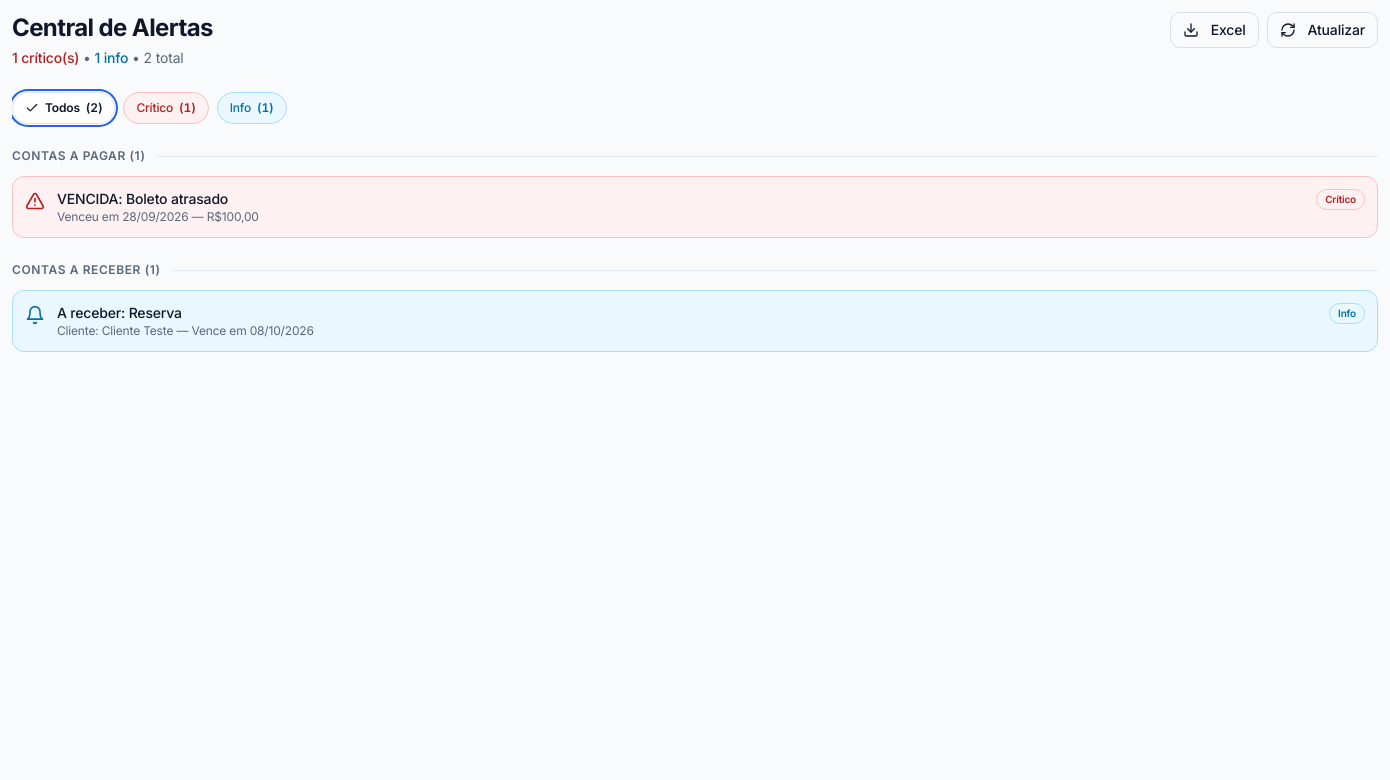
Test: Central de Alertas (V2) › refresh com falha mantém a última lista e avisa
expect the text "VENCIDA: Boleto atrasado" is shown: met, box [57,190,228,207]
Step 1. Click the button "Atualizar" → (1322, 30), box [1267,12,1378,48]
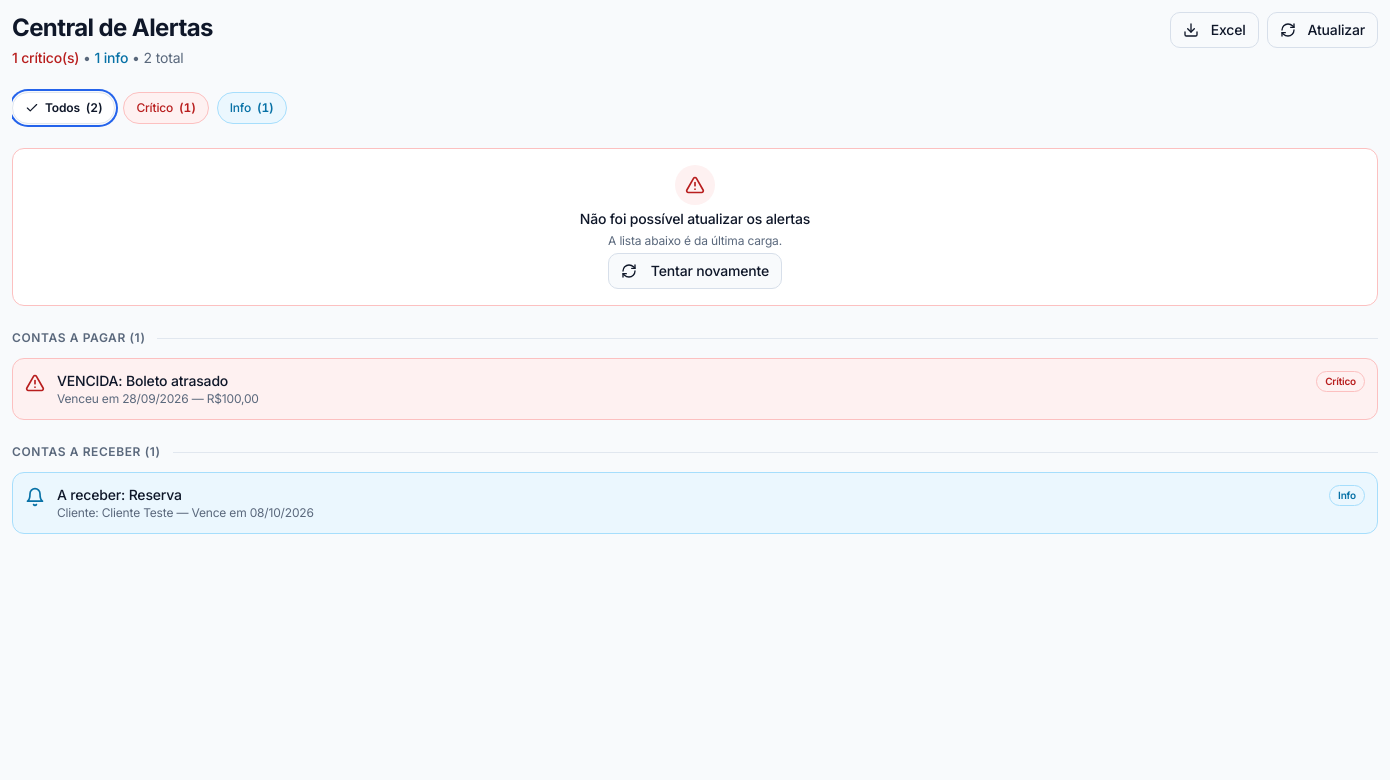
expect the text "VENCIDA: Boleto atrasado" is shown: met, box [57,372,228,389]
expect the text "Não foi possível atualizar os alertas" is shown: met, box [580,210,810,227]
